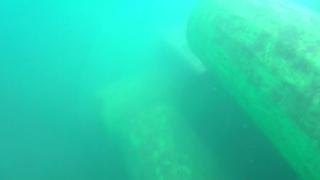pipe: (186, 1, 320, 180), (92, 70, 222, 180)
